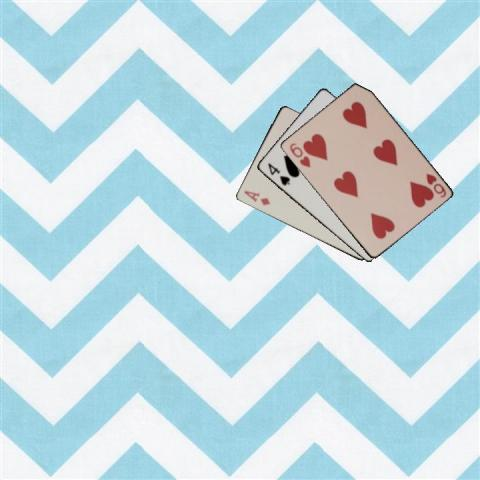4s: (265, 160, 291, 187)
6h: (286, 140, 311, 169), (423, 170, 447, 199)
Ad: (241, 188, 272, 207)
